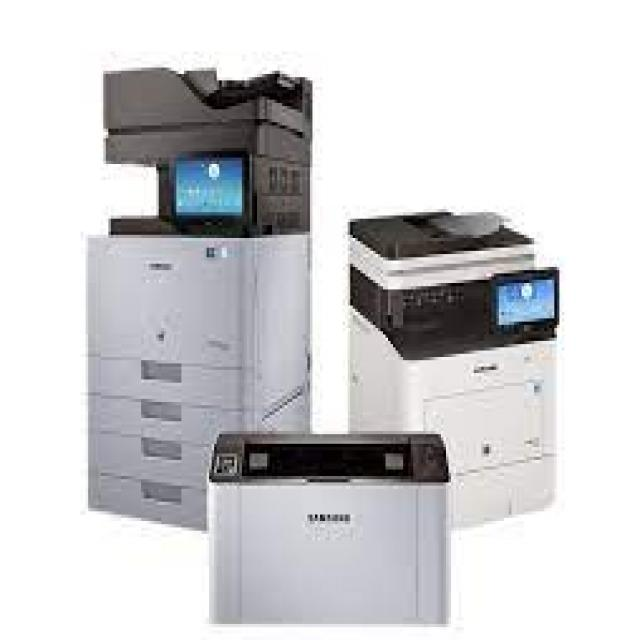printer: (88, 55, 317, 515), (343, 212, 561, 528), (208, 431, 451, 626)
